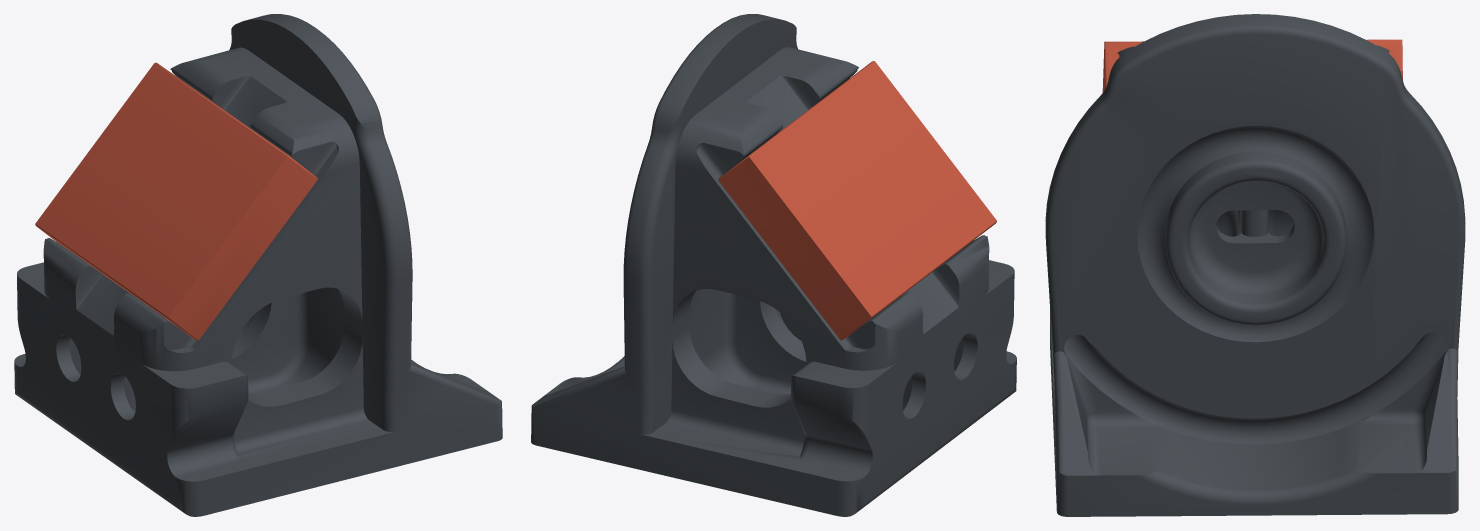
Rendered from wedge_18100.glb.
3 renders of one model, left to right at view 1: azimuth 30°, elevation 25°; view 2: azimuth 150°, elevation 25°; view 3: azimuth 270°, elevation 25°, orthographic. The views are drawn at different scales.
Visible parts, largest first — view 1: Клин_фрикционный_18-100; view 2: Клин_фрикционный_18-100; view 3: Клин_фрикционный_18-100.
Boxes of the visible parts, <box> form: Клин_фрикционный_18-100: <box>14,14,502,516</box>; Клин_фрикционный_18-100: <box>531,14,1016,516</box>; Клин_фрикционный_18-100: <box>1045,14,1465,516</box>.
Size of the model in its own units: 0.194 by 0.211 by 0.186.
